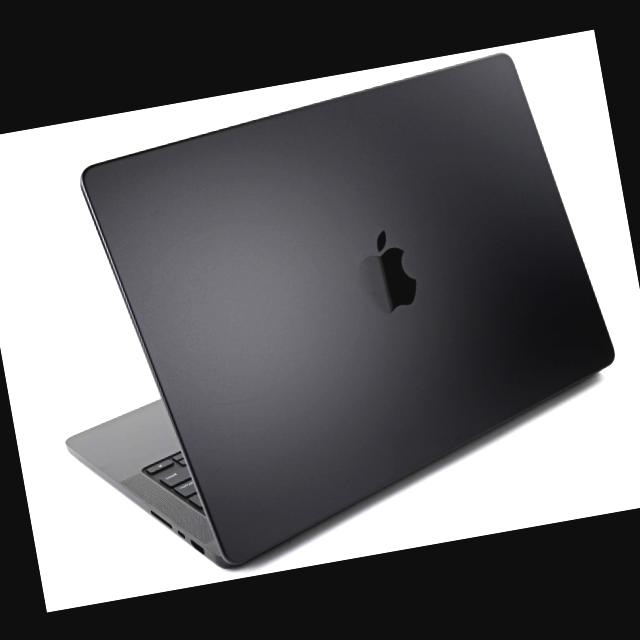laptop: (0, 37, 640, 605)
